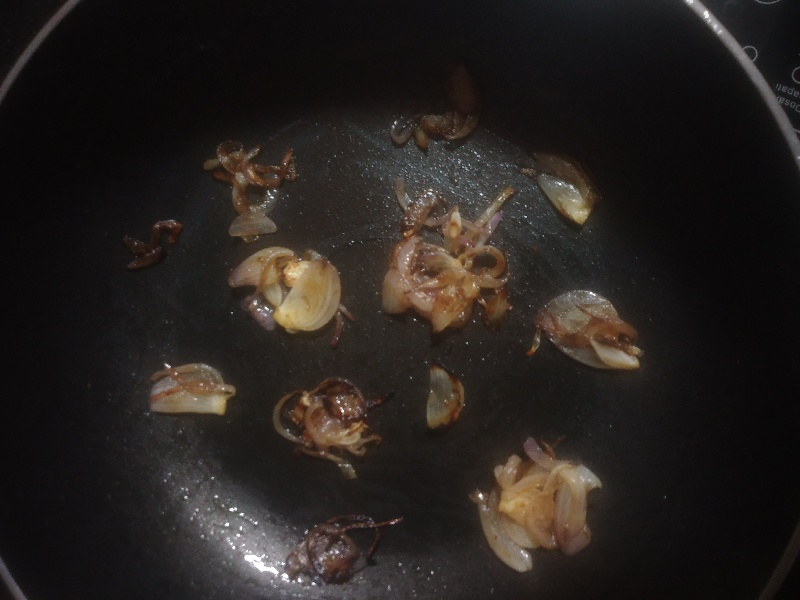onion_fried: (383, 182, 518, 336), (198, 136, 301, 239), (277, 377, 377, 475)
onion_golden: (471, 432, 603, 572), (229, 248, 351, 336)
